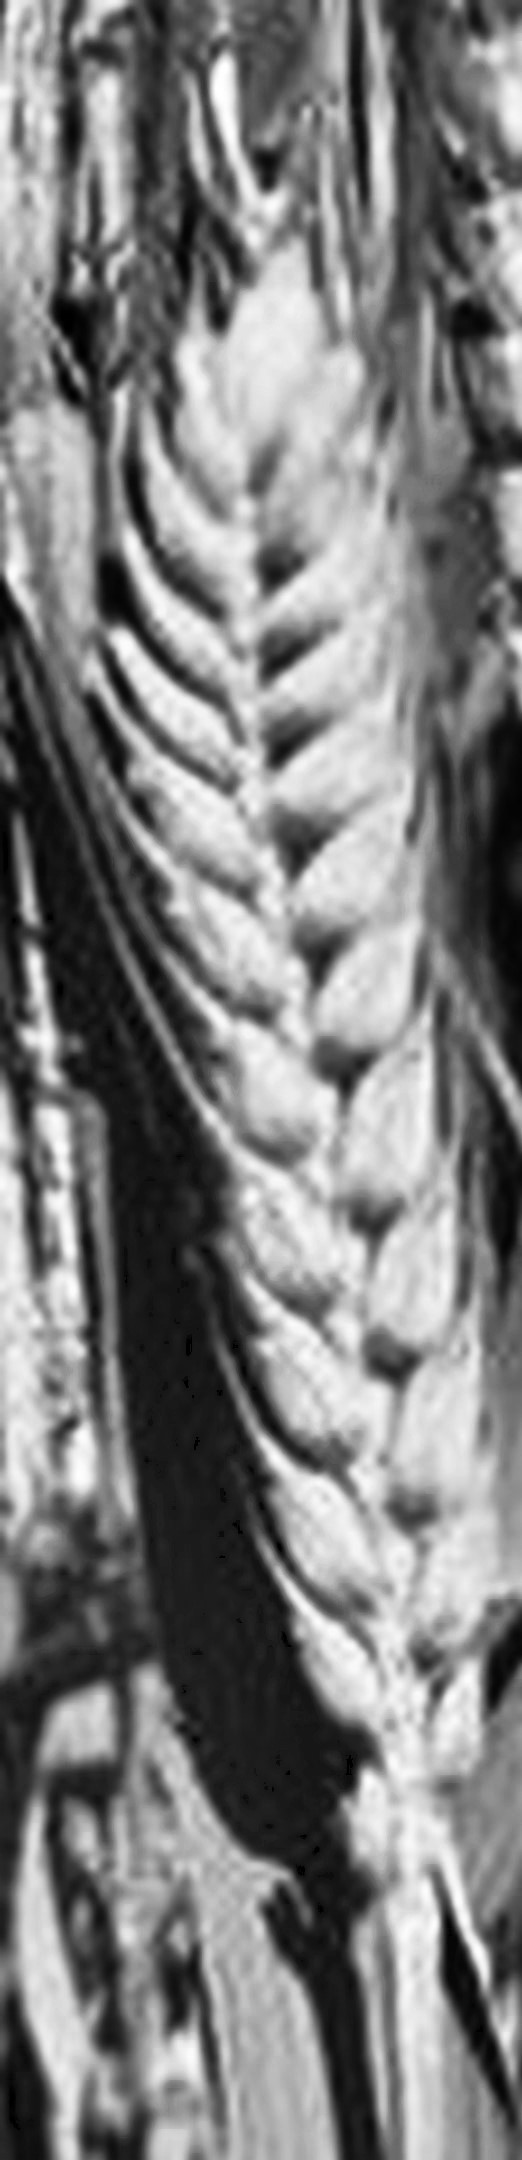Healthy Wheat: (113, 231, 522, 1823)
